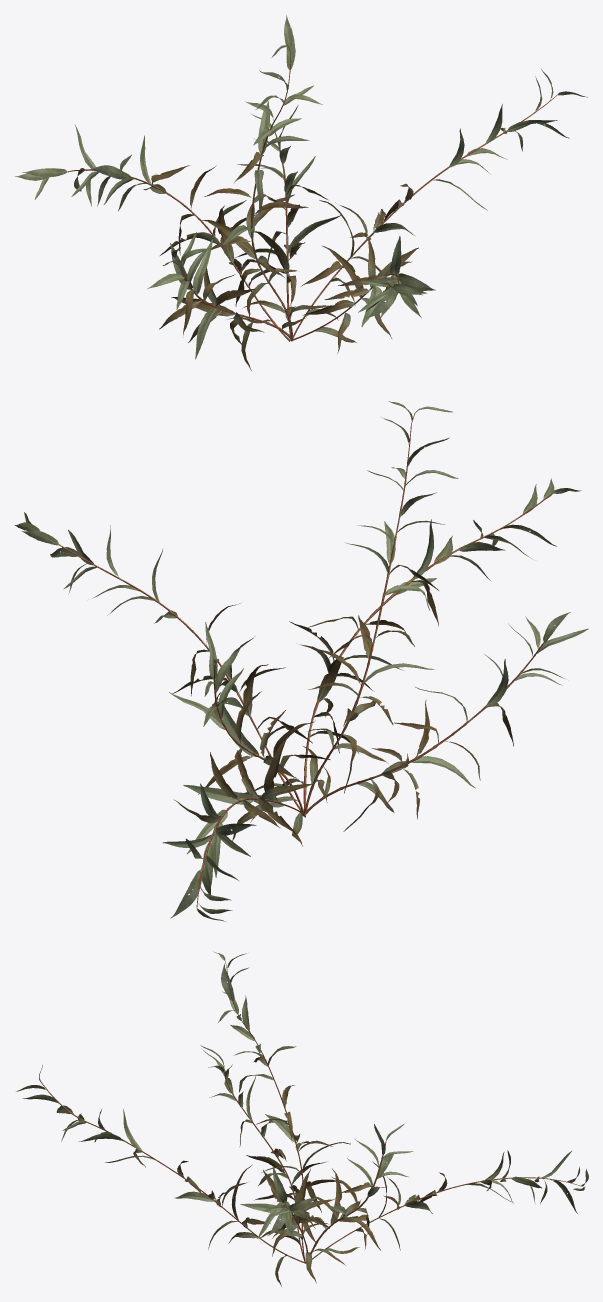
File: UE_shrub_02_c.gltf
3 renders of one model, top to bottom at view 1: azimuth 30°, elevation 25°; view 2: azimuth 150°, elevation 25°; view 3: azimuth 270°, elevation 25°, orthographic. The views are drawn at different scales.
Parts seen in each view (by area): view 1: shrub_02_c; view 2: shrub_02_c; view 3: shrub_02_c.
Boxes of the visible parts, left/top/right/bottom form: shrub_02_c: left=15, top=15, right=587, bottom=370; shrub_02_c: left=14, top=401, right=588, bottom=921; shrub_02_c: left=16, top=951, right=588, bottom=1286.
Bounding box in the file's own units: 1.77 × 1.31 × 2.29.
1 material, 1 textured.
